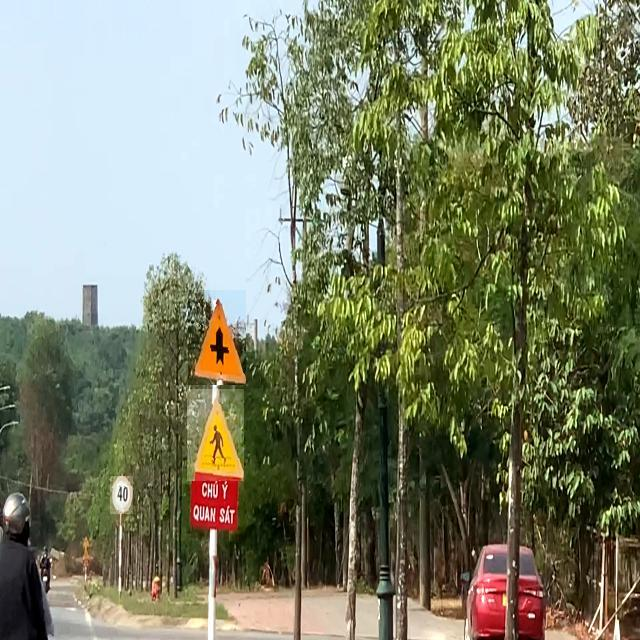P-127: (110, 477, 133, 515)
W-207a: (188, 290, 246, 385)
W-224: (187, 389, 244, 481)
